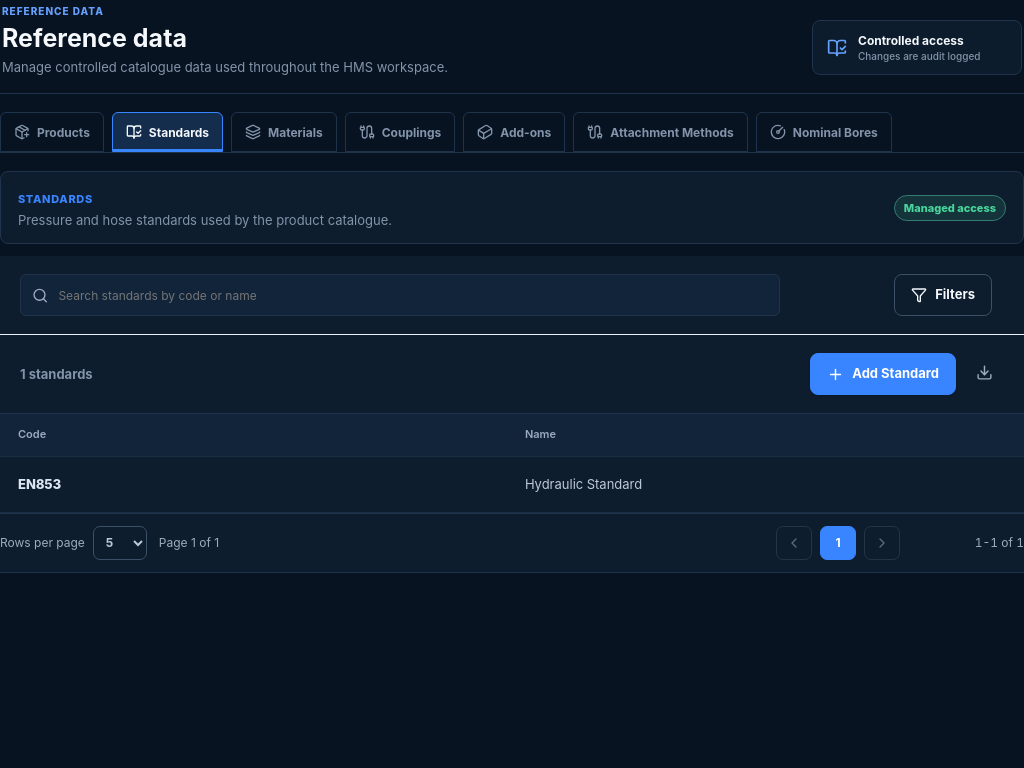
Reference catalog › marks code and name required, validates inline with focus, and keeps values when the server refuses
The width and height of the screenshot is (1024, 768).
Expected: the text "Hydraulic Standard" is shown, [507,456,1014,512]
Click the button "Add Standard". click: (883, 374)
box: [810,353,956,395]
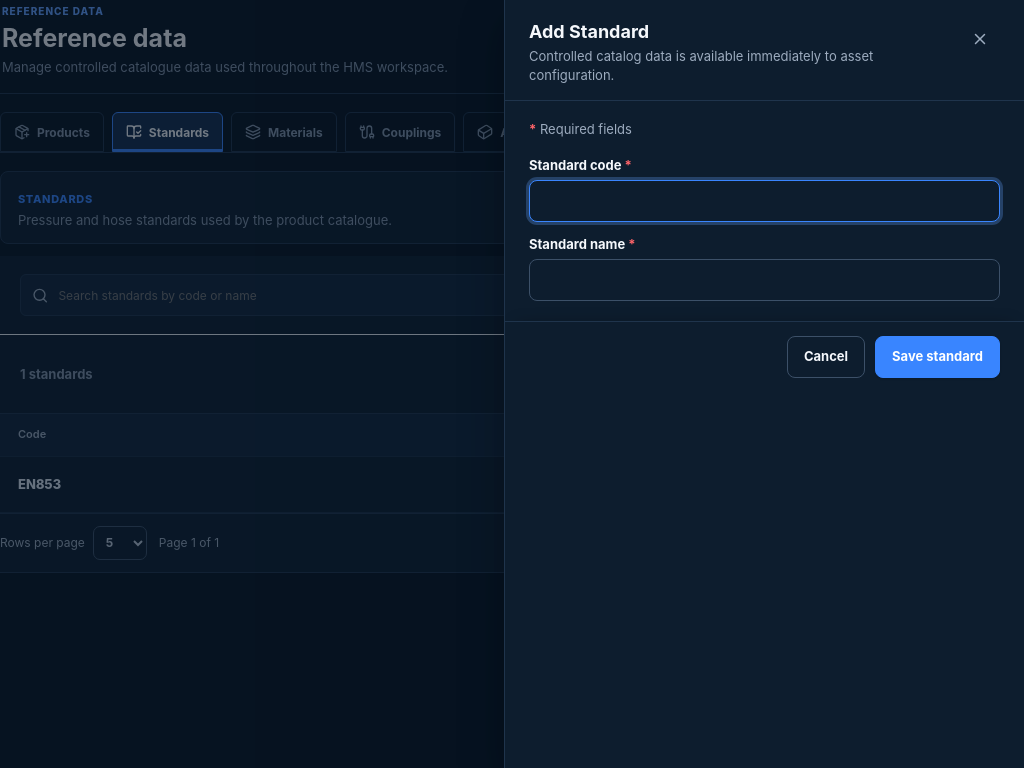
Now the text "Required fields" reads "* Required fields", box [529,121,632,137]
Type "Fuel Standard" into the field labelled "Standard name". click: (764, 280)
box: [529,259,1000,301]
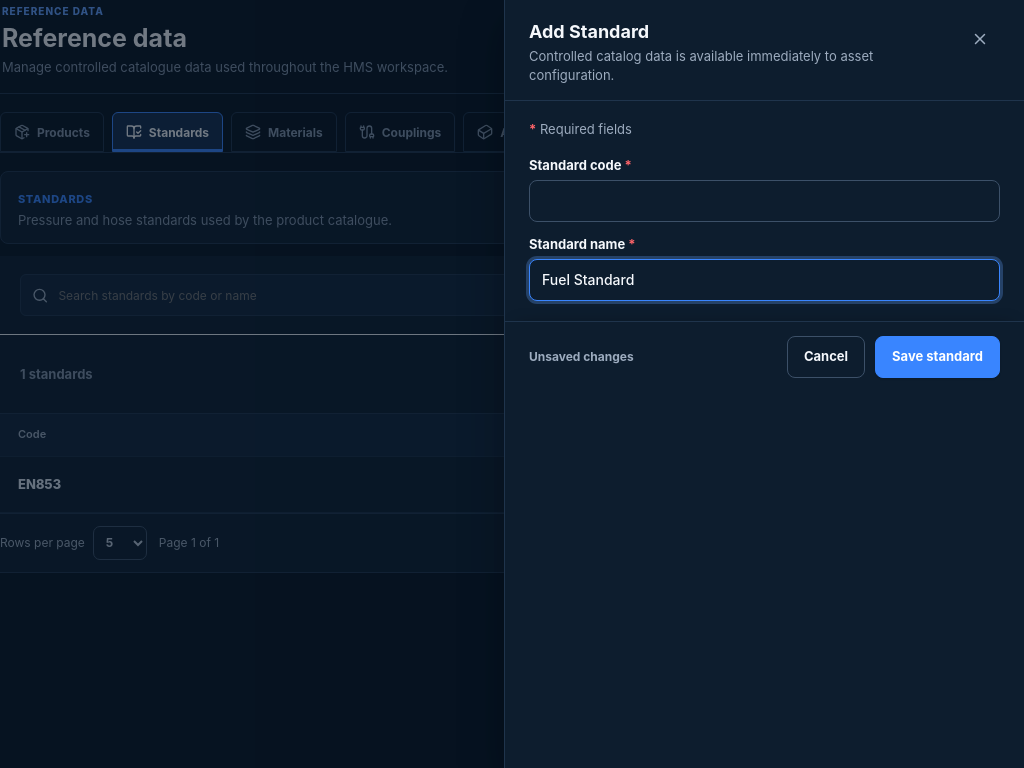
Click the button "Save standard". click: (938, 357)
box: [875,336,1000,378]
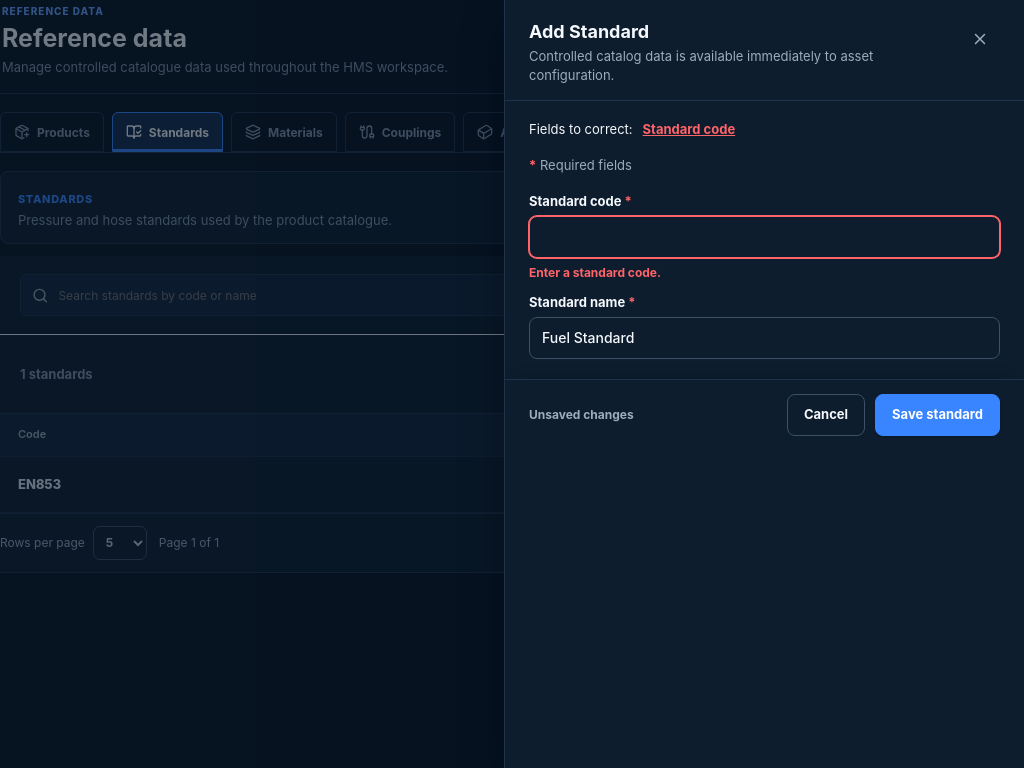
Type "en854" into the field labelled "Standard code". click: (764, 237)
box: [529,216,1000,258]
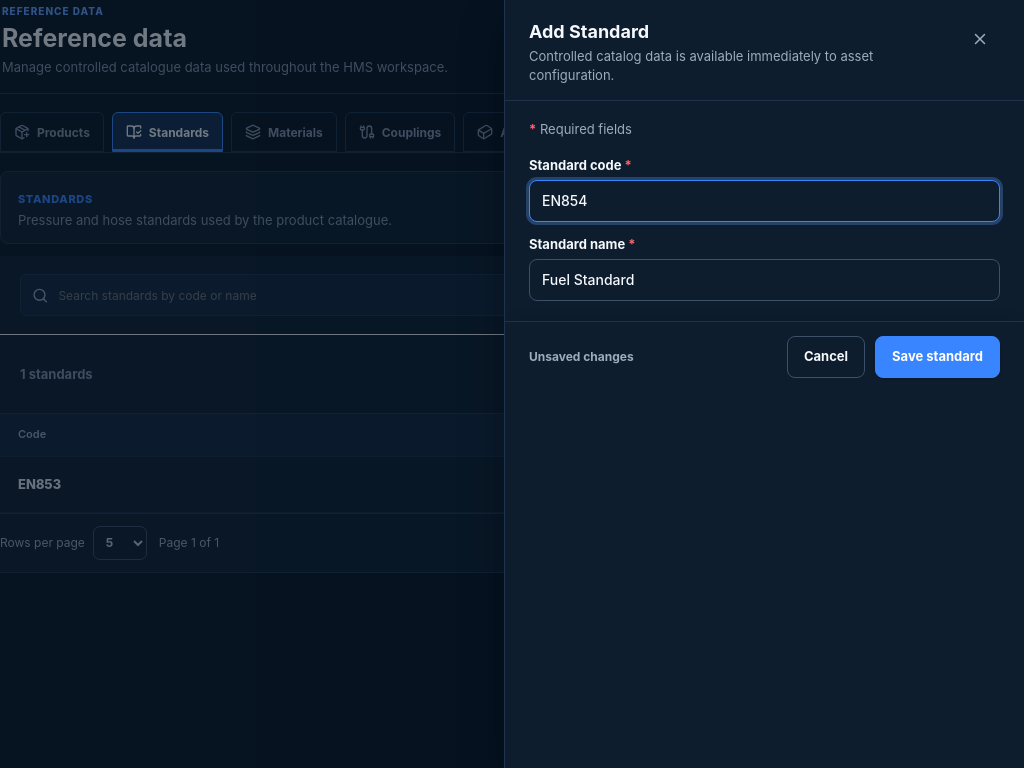
Click the button "Save standard". click: (938, 357)
box: [875,336,1000,378]
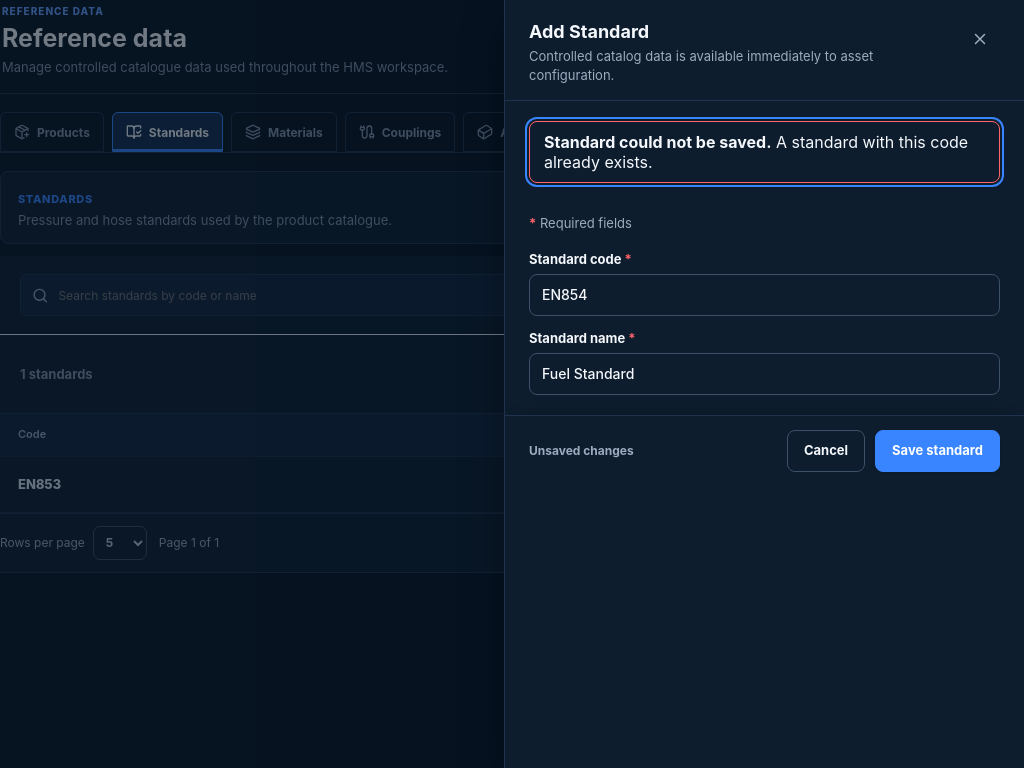
Now the message shows "A standard with this code already exists.", box [544,132,968,172]
